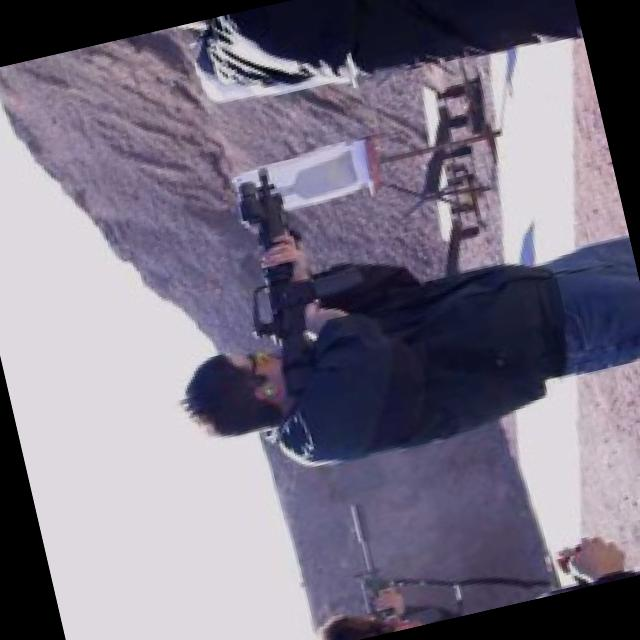long weapon: (211, 159, 358, 402)
